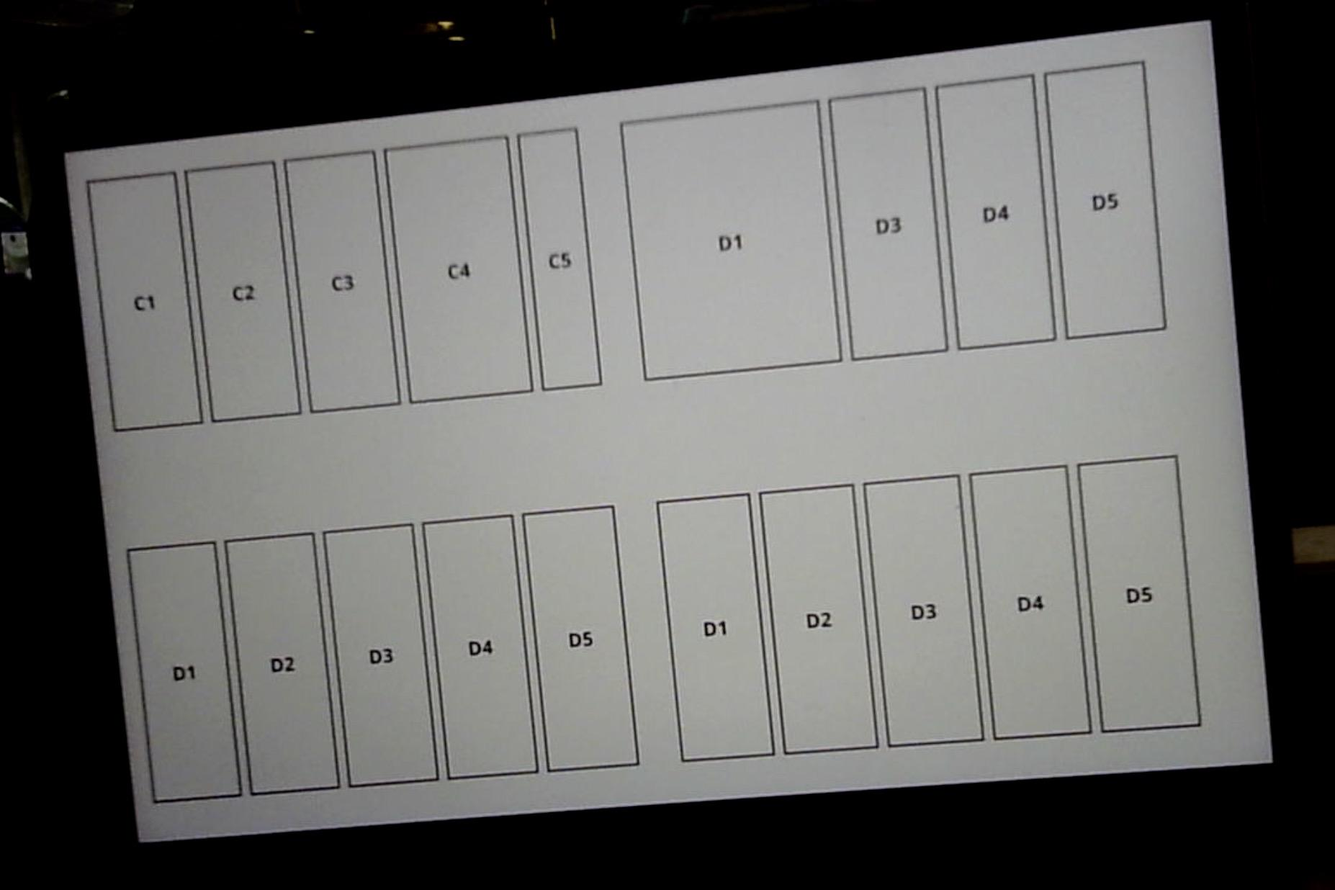parking space: (621, 103, 840, 379), (387, 137, 531, 401), (1045, 63, 1164, 338), (972, 467, 1089, 738), (938, 76, 1054, 349), (866, 476, 982, 746), (761, 486, 877, 753), (830, 89, 945, 357), (657, 495, 773, 760), (324, 525, 438, 786), (285, 152, 399, 411), (525, 507, 637, 770), (226, 534, 338, 794), (424, 516, 535, 778), (187, 163, 300, 420), (88, 174, 200, 428), (128, 543, 238, 801), (519, 129, 601, 389)
